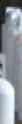cylinder: (0, 1, 22, 124)
